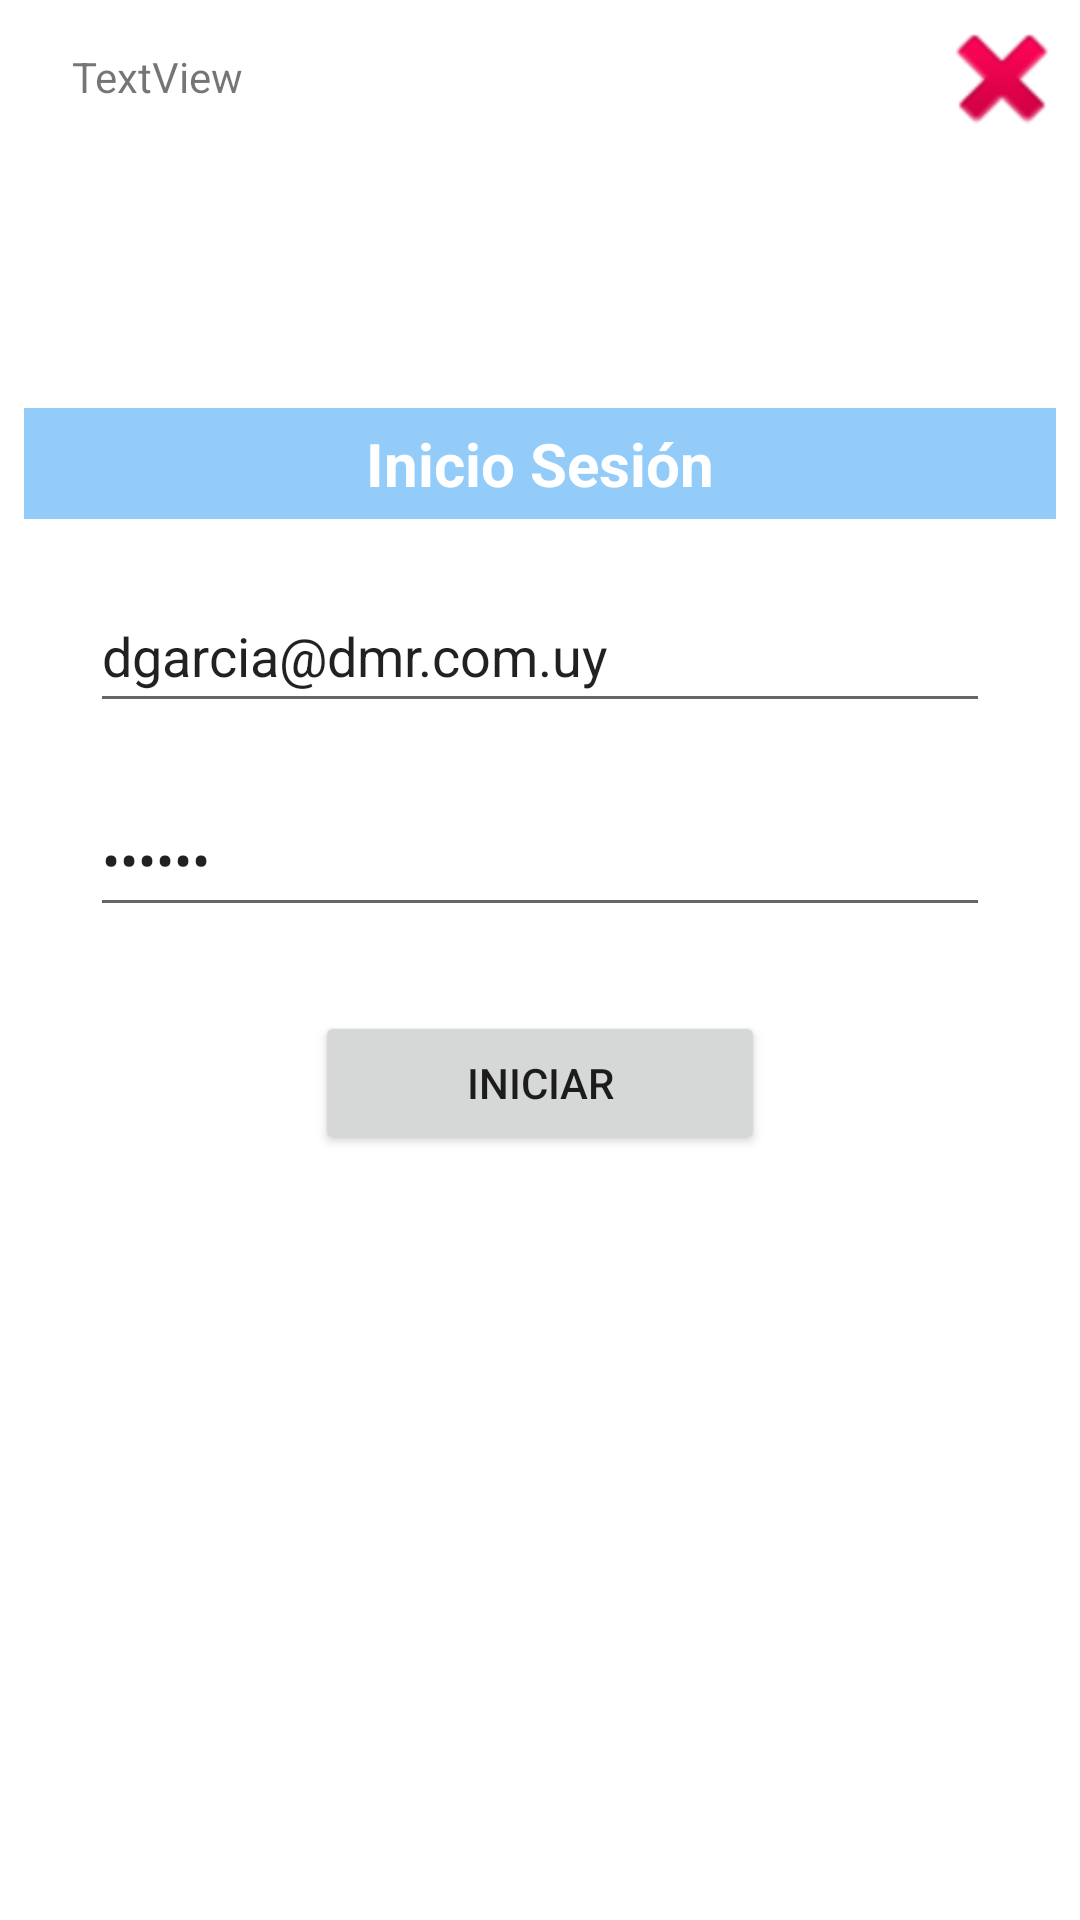

Where to tap for icons on this 1080w x 1920h app screen, as point (x, y):
delete: point (1002, 78)
